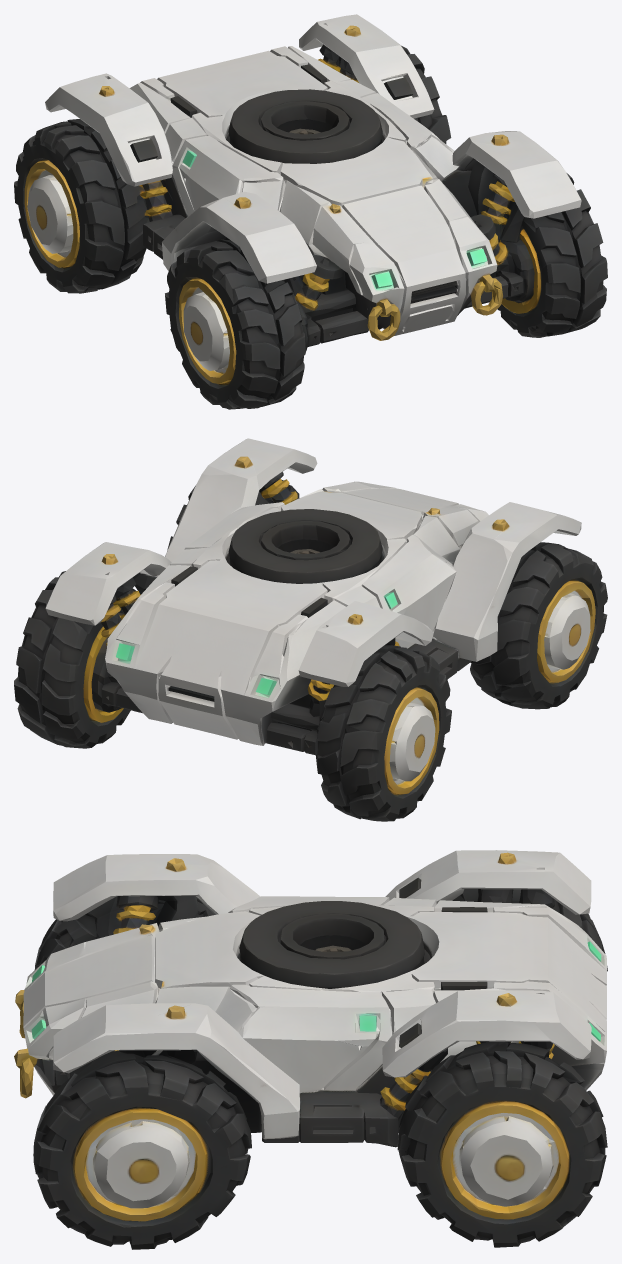
File: scout_wheels.glb
The picture shows the model from 3 angles, top to bottom: view 1: azimuth 30°, elevation 25°; view 2: azimuth 150°, elevation 25°; view 3: azimuth 270°, elevation 25°; orthographic projection. The views are drawn at different scales.
Visible parts, largest first — view 1: model; view 2: model; view 3: model.
Boxes of the visible parts, box(x1,y1,x2,y2) form: model: box(14, 14, 607, 409); model: box(14, 438, 607, 821); model: box(14, 850, 607, 1249).
Bounding box in the file's own units: 1.64 × 0.7994 × 1.9.
Materials: 1 (1 with a texture image).
